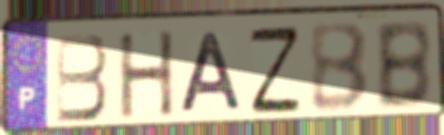A: (177, 29, 245, 116)
B: (307, 20, 371, 114), (373, 18, 434, 112), (54, 30, 111, 125)
H: (116, 28, 177, 122)
Z: (247, 23, 303, 117)
